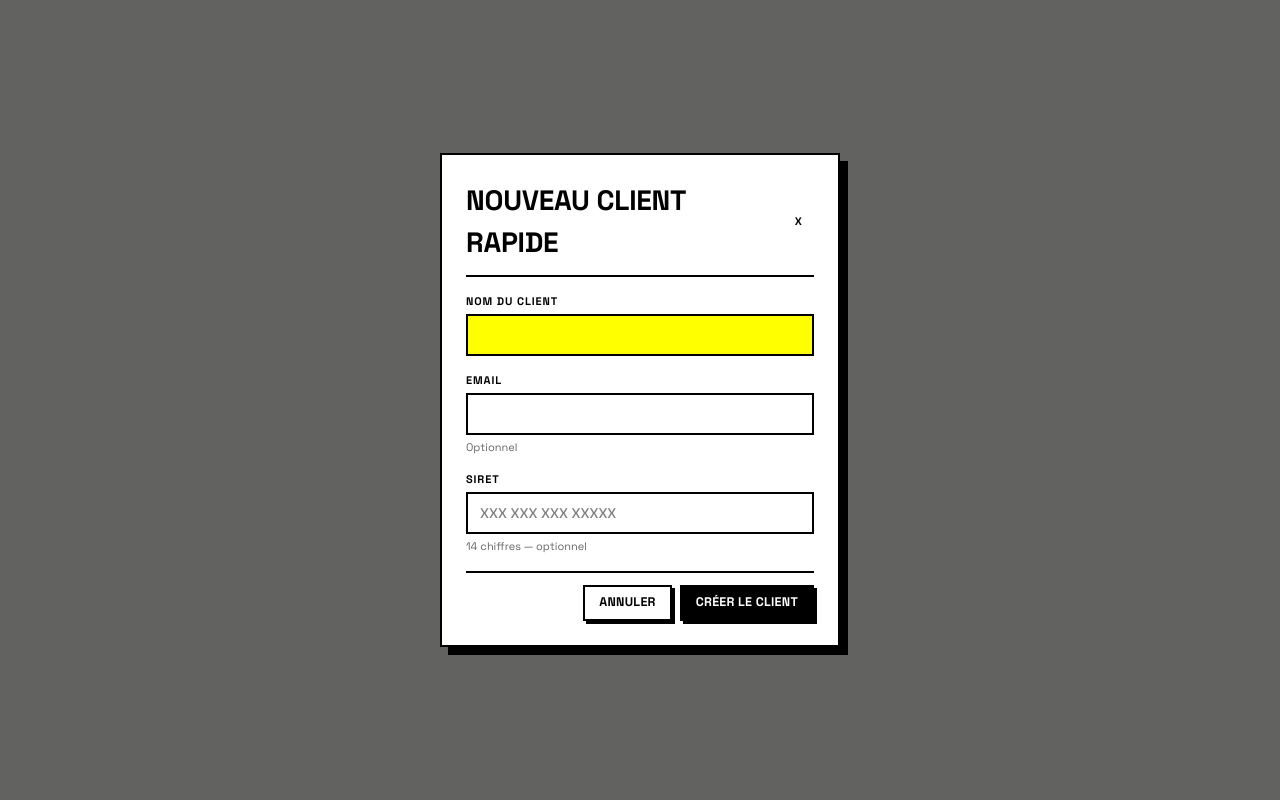
Test: QuickClientModal › valide que le nom est obligatoire
Click the button with test id "quick-client-submit" at (747, 602), box x1=680 y1=584 x2=814 y2=620
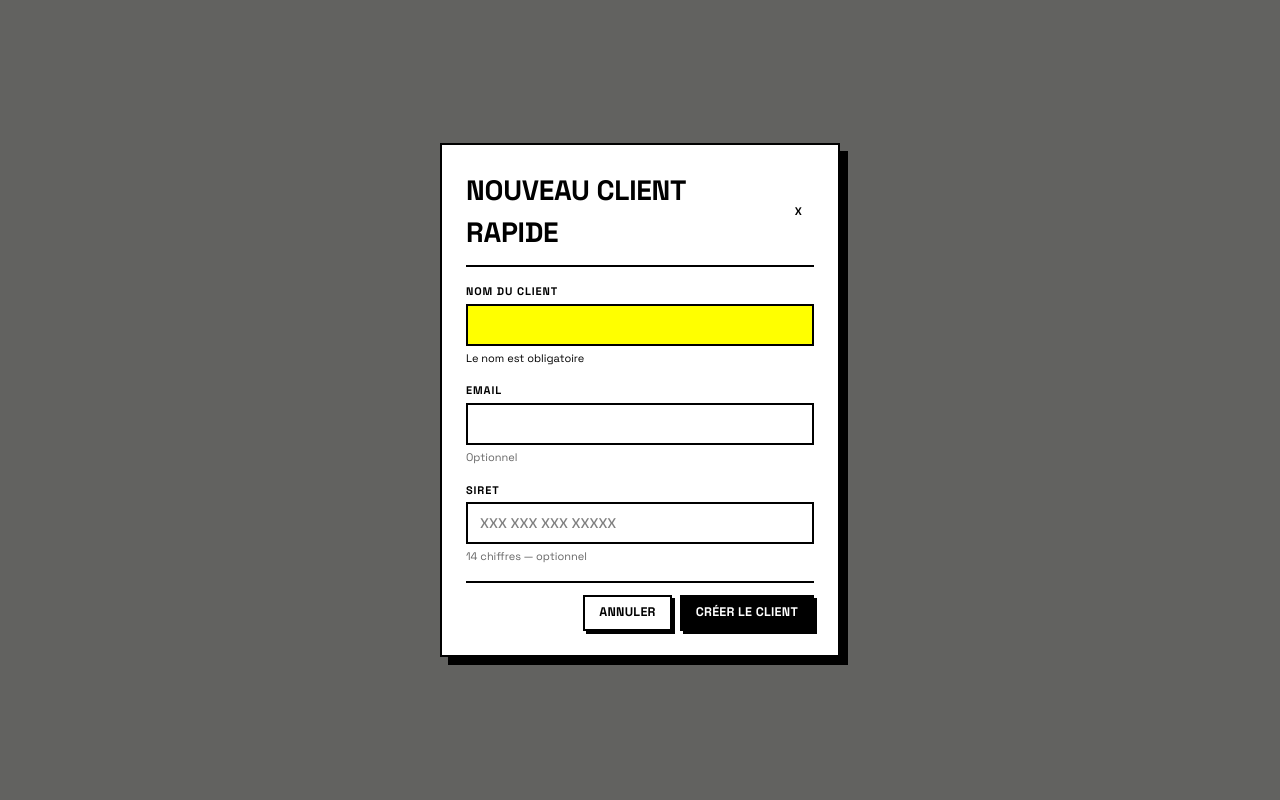
Now the text "Le nom est obligatoire" is shown, box x1=466 y1=351 x2=584 y2=365
